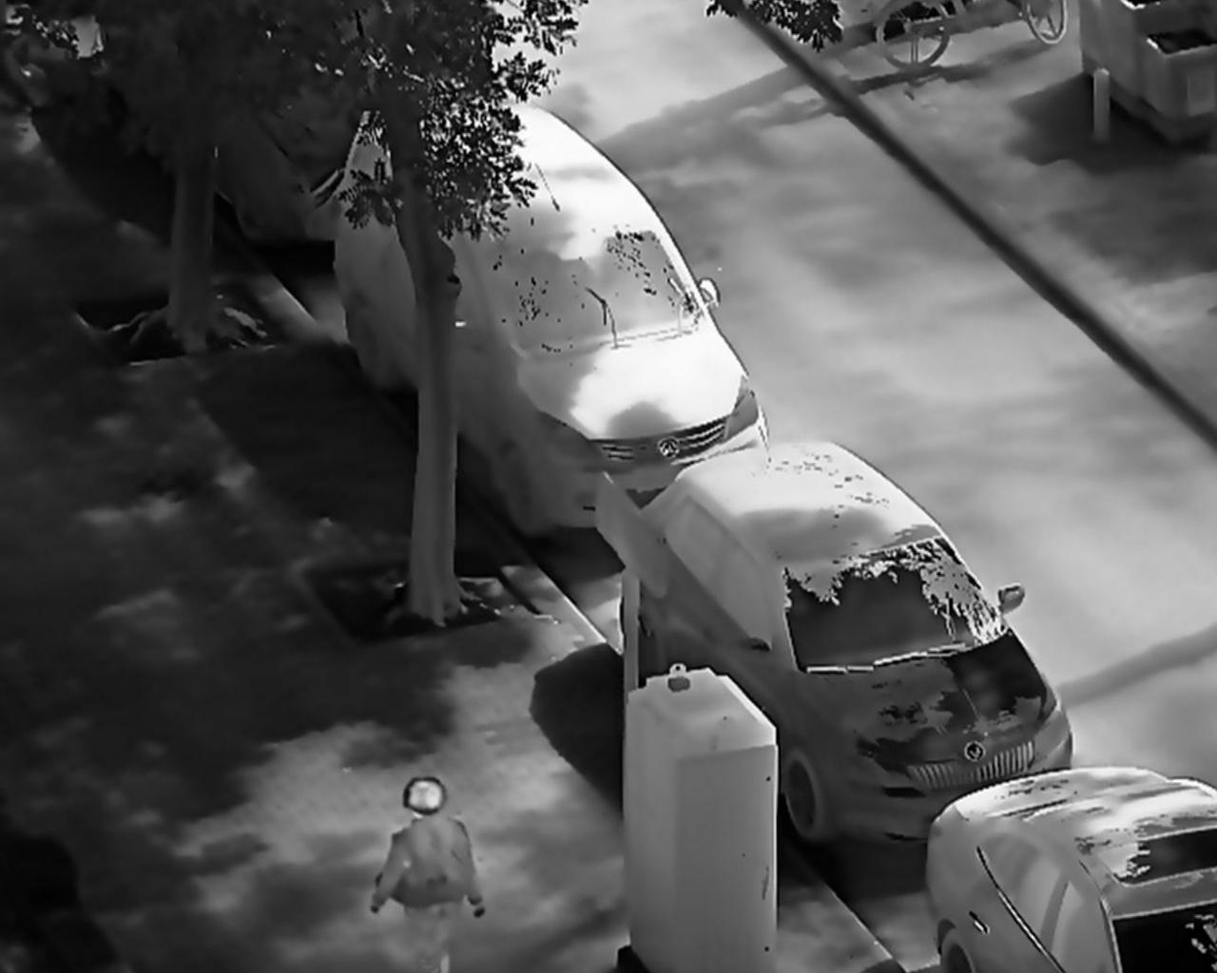person: (371, 774, 488, 973)
